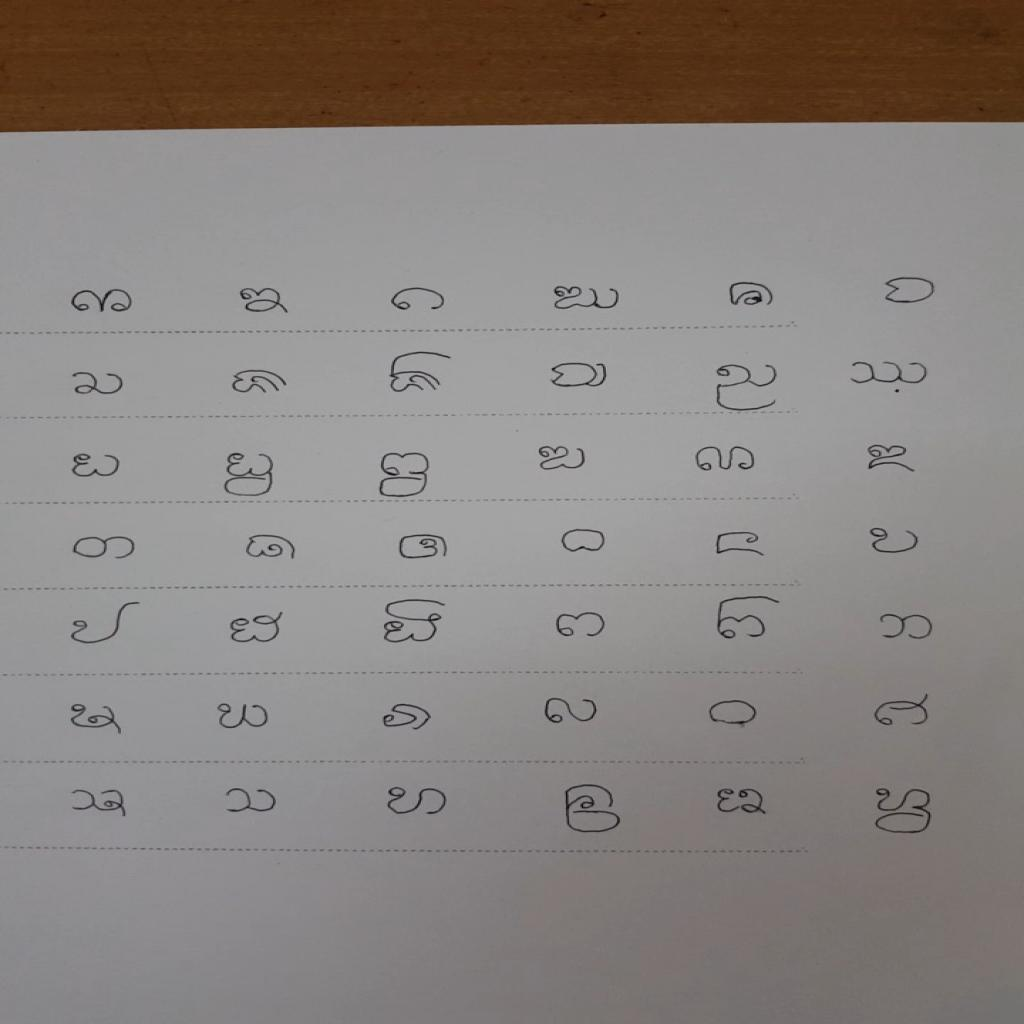LN001: (68, 288, 137, 316)
LN002: (236, 285, 293, 317)
LN003: (388, 287, 448, 315)
LN004: (550, 283, 624, 313)
LN005: (726, 280, 778, 310)
LN006: (882, 275, 940, 308)
LN007: (69, 370, 127, 399)
LN008: (228, 367, 291, 399)
LN009: (386, 349, 456, 397)
LN010: (544, 358, 616, 393)
LN011: (712, 360, 786, 413)
LN012: (847, 355, 932, 387)
LN013: (67, 451, 123, 483)
LN014: (220, 448, 279, 500)
LN015: (374, 448, 435, 501)
LN016: (533, 443, 592, 475)
LN017: (690, 443, 762, 478)
LN018: (860, 439, 919, 477)
LN019: (68, 534, 140, 564)
LN020: (240, 533, 303, 565)
LN021: (394, 530, 453, 564)
LN022: (557, 527, 611, 557)
LN023: (710, 529, 770, 561)
LN024: (865, 524, 926, 558)
LN025: (64, 599, 144, 649)
LN026: (224, 609, 287, 648)
LN027: (375, 597, 449, 648)
LN028: (550, 610, 610, 642)
LN029: (712, 593, 785, 643)
LN030: (875, 610, 938, 644)
LN031: (65, 699, 126, 737)
LN032: (211, 699, 276, 734)
LN033: (376, 699, 439, 735)
LN034: (539, 693, 605, 729)
LN035: (703, 696, 764, 728)
LN036: (868, 692, 936, 730)
LN037: (63, 785, 134, 820)
LN038: (219, 783, 283, 819)
LN039: (382, 782, 453, 821)
LN040: (559, 779, 627, 838)
LN041: (711, 782, 774, 820)
LN042: (869, 783, 938, 839)
